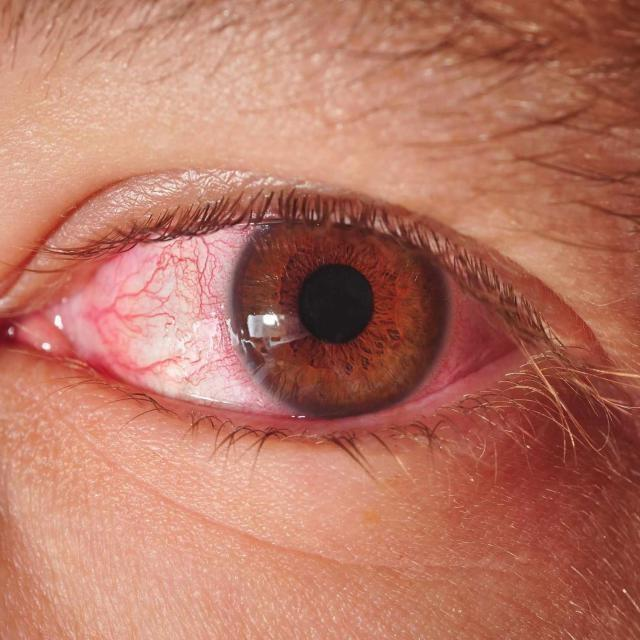Conjunctivitis: (0, 210, 504, 420)
